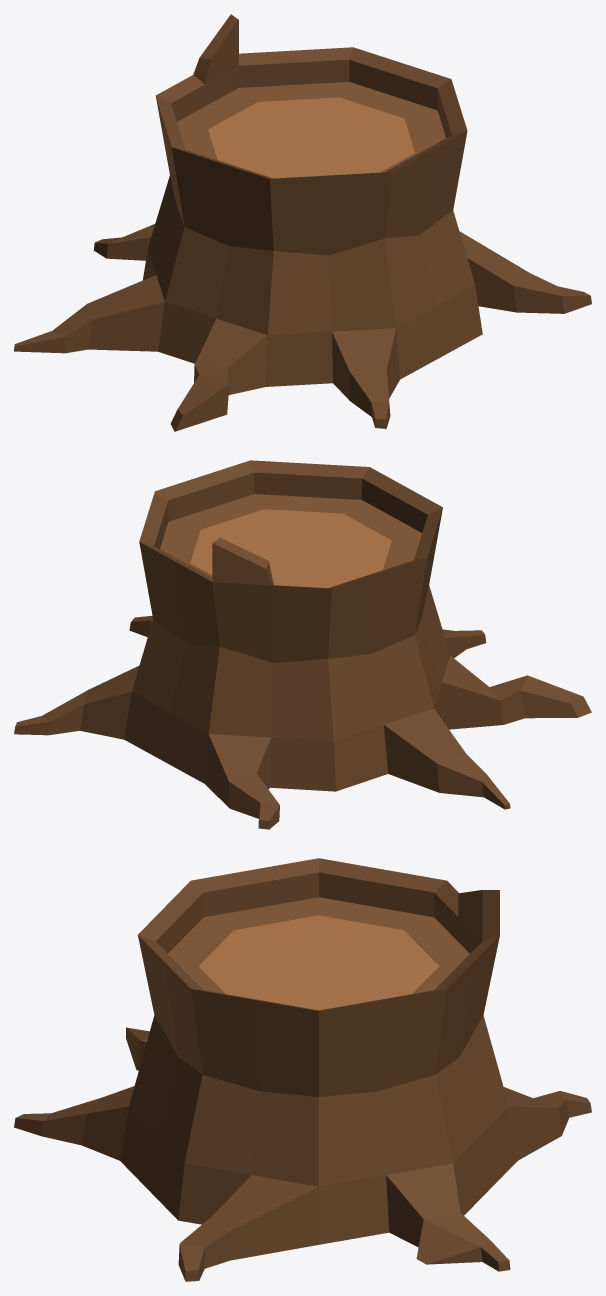
File: Tree_Trunk_7_Light_Brown.fbx
3 renders of one model, top to bottom at view 1: azimuth 30°, elevation 25°; view 2: azimuth 150°, elevation 25°; view 3: azimuth 270°, elevation 25°, orthographic. The views are drawn at different scales.
Parts seen in each view (by area): view 1: Tree_Trunk_7_Light_Brown; view 2: Tree_Trunk_7_Light_Brown; view 3: Tree_Trunk_7_Light_Brown.
Part boxes in pixels (bbox=[...]): Tree_Trunk_7_Light_Brown: bbox=[14, 14, 591, 431]; Tree_Trunk_7_Light_Brown: bbox=[14, 460, 591, 829]; Tree_Trunk_7_Light_Brown: bbox=[14, 858, 591, 1281].
Size of the model in its own units: 207 by 99.15 by 191.
